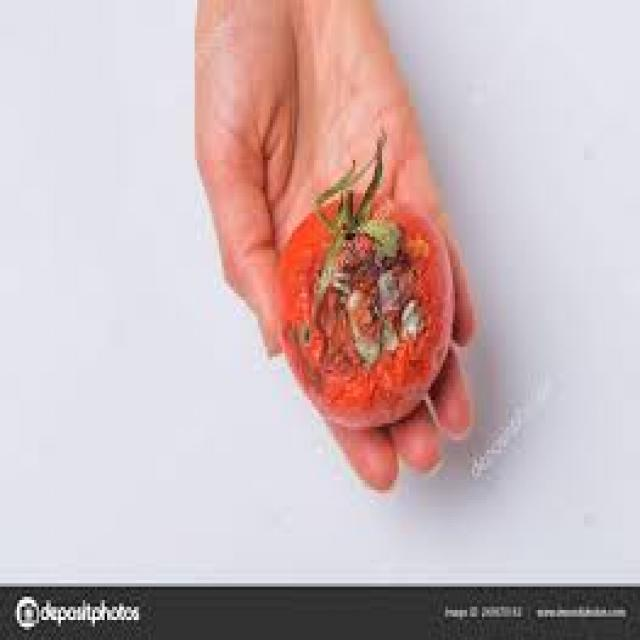organic waste: (278, 127, 452, 423)
